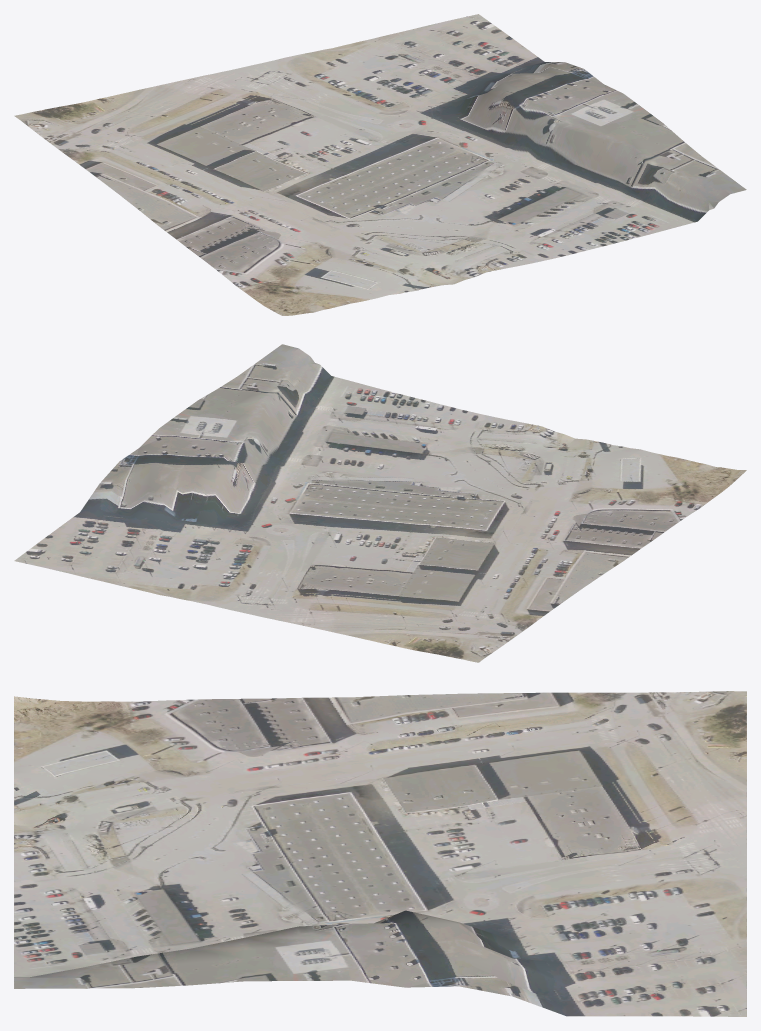
The model's file is CM_Terrain_24490254_6820204.fbx.
The picture shows the model from 3 angles, top to bottom: view 1: azimuth 30°, elevation 25°; view 2: azimuth 150°, elevation 25°; view 3: azimuth 270°, elevation 25°; orthographic projection. The views are drawn at different scales.
Parts seen in each view (by area): view 1: CM_Terrain_24490254_6820204_LOD0; view 2: CM_Terrain_24490254_6820204_LOD0; view 3: CM_Terrain_24490254_6820204_LOD0.
Boxes of the visible parts, x1=… form: CM_Terrain_24490254_6820204_LOD0: x1=14, y1=14, x2=746, y2=315; CM_Terrain_24490254_6820204_LOD0: x1=14, y1=344, x2=746, y2=662; CM_Terrain_24490254_6820204_LOD0: x1=14, y1=691, x2=746, y2=1016.
Size of what is drawn, in the model's own units: 205 by 14.34 by 205.
